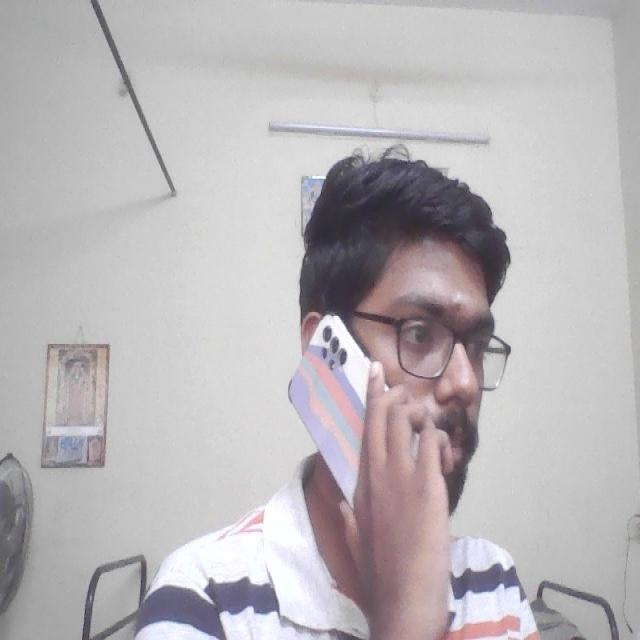Mobile: (278, 304, 388, 517)
